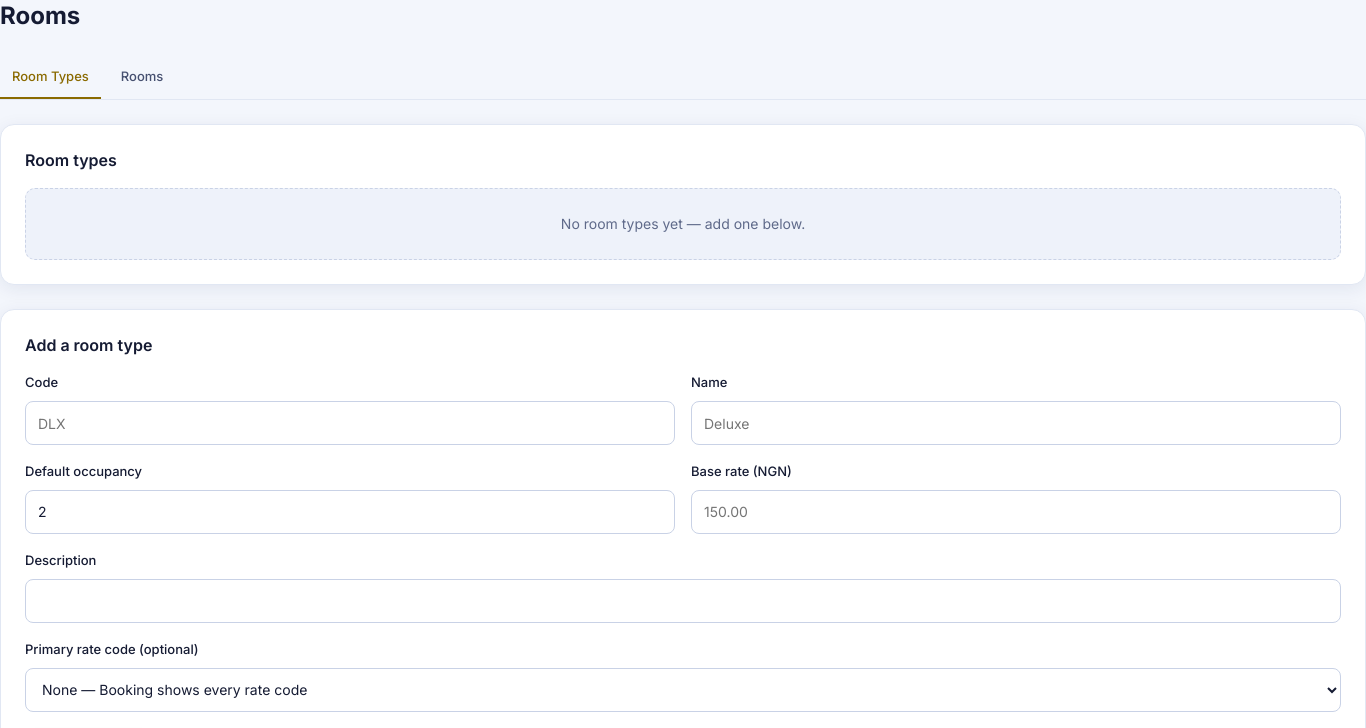
it: <RoomsScreen> › defaults to the Room Types tab and can switch to Rooms
The width and height of the screenshot is (1366, 728).
Check: the text "No room types yet — add one below." is shown, box left=561, top=213, right=805, bottom=235
Click the tab "Rooms".
click(142, 77)  # box left=109, top=55, right=175, bottom=99
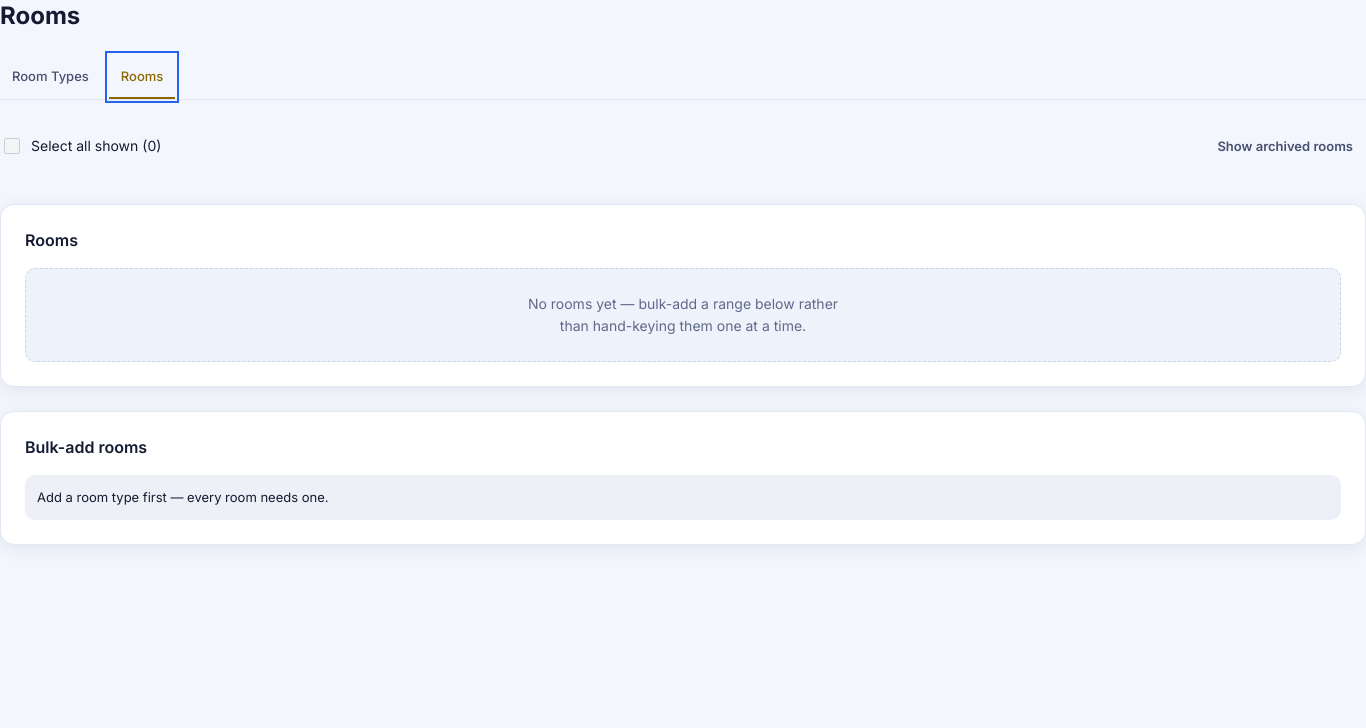
Check: the text "No rooms yet" is shown, box left=528, top=295, right=838, bottom=334
